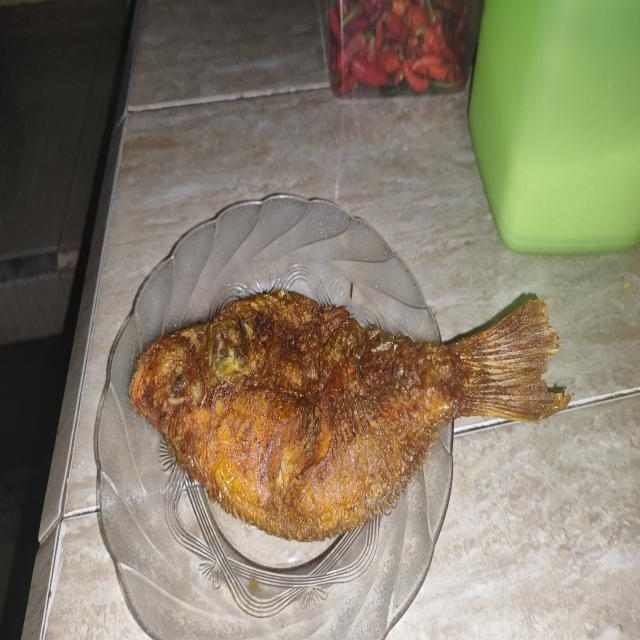ikan_mujair: (130, 290, 569, 540)
